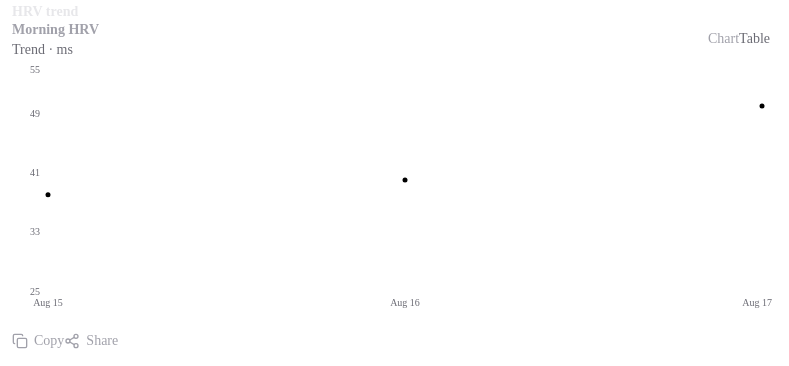
Test: MessageBubble browser render › renders a safe Mermaid xychart with a table alternative
Step 1. Click the button "Table" → [755, 38], box left=739, top=25, right=770, bottom=51
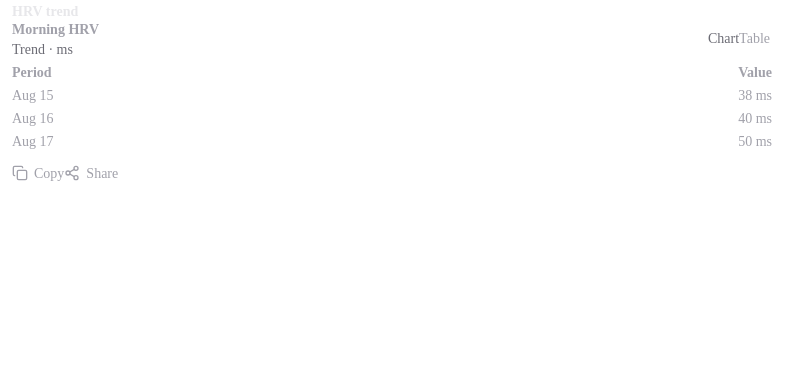
Check: the table named "Morning HRV" is shown, box left=12, top=61, right=772, bottom=153
Check: the cell "50 ms" is shown, box left=431, top=130, right=772, bottom=153
